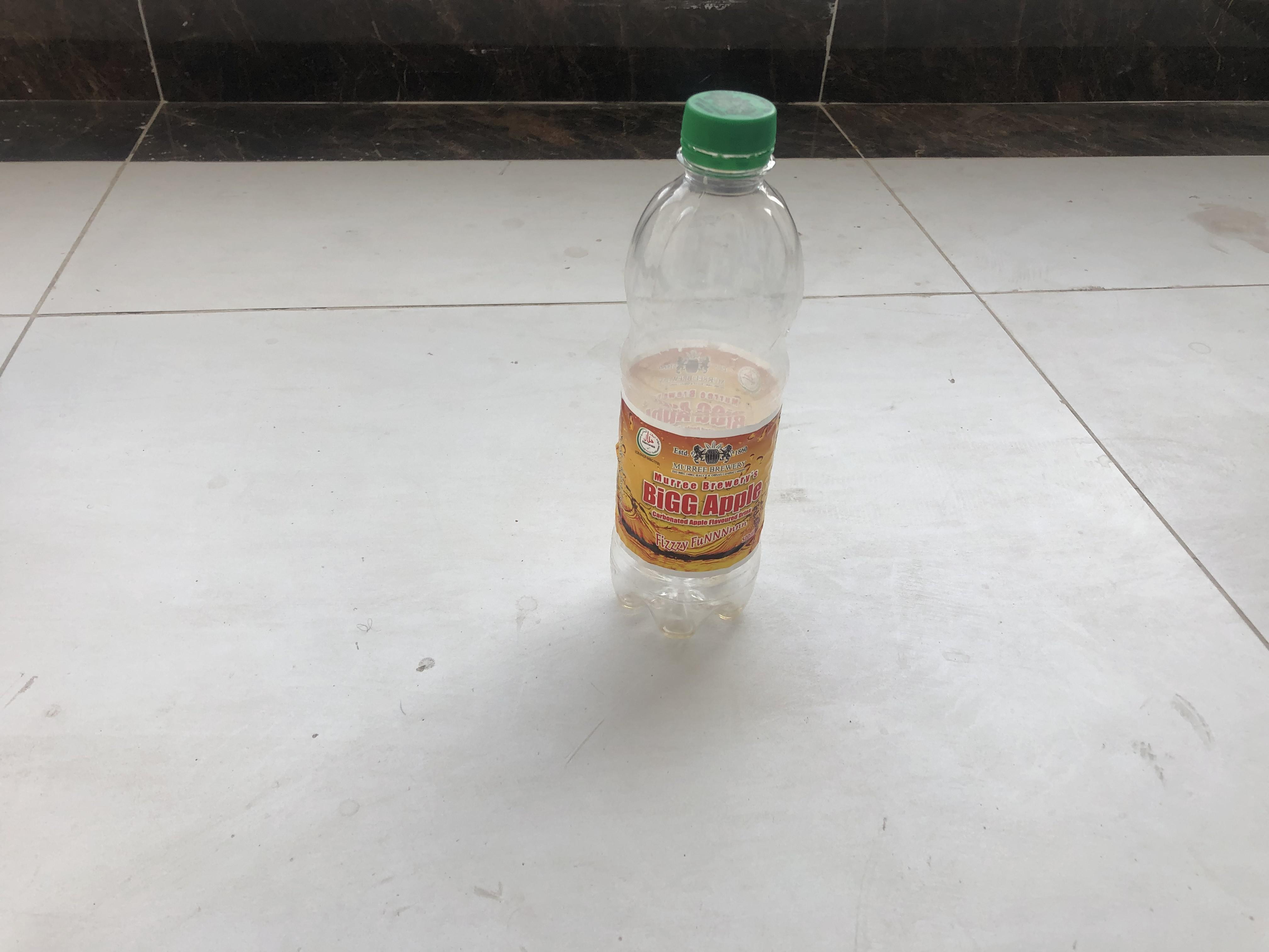bottle-plastic: (613, 85, 809, 652)
